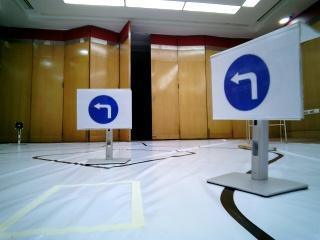left: (214, 54, 298, 113), (79, 92, 131, 126)
